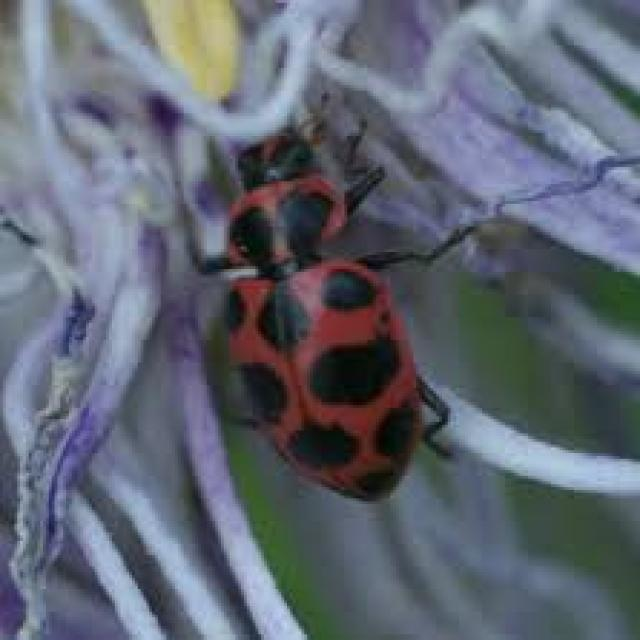bug: (187, 85, 489, 509)
